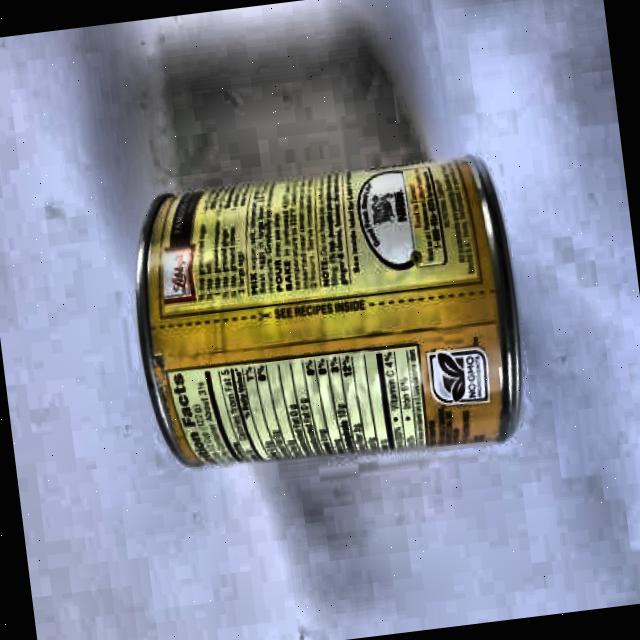metal: (113, 142, 537, 486)
